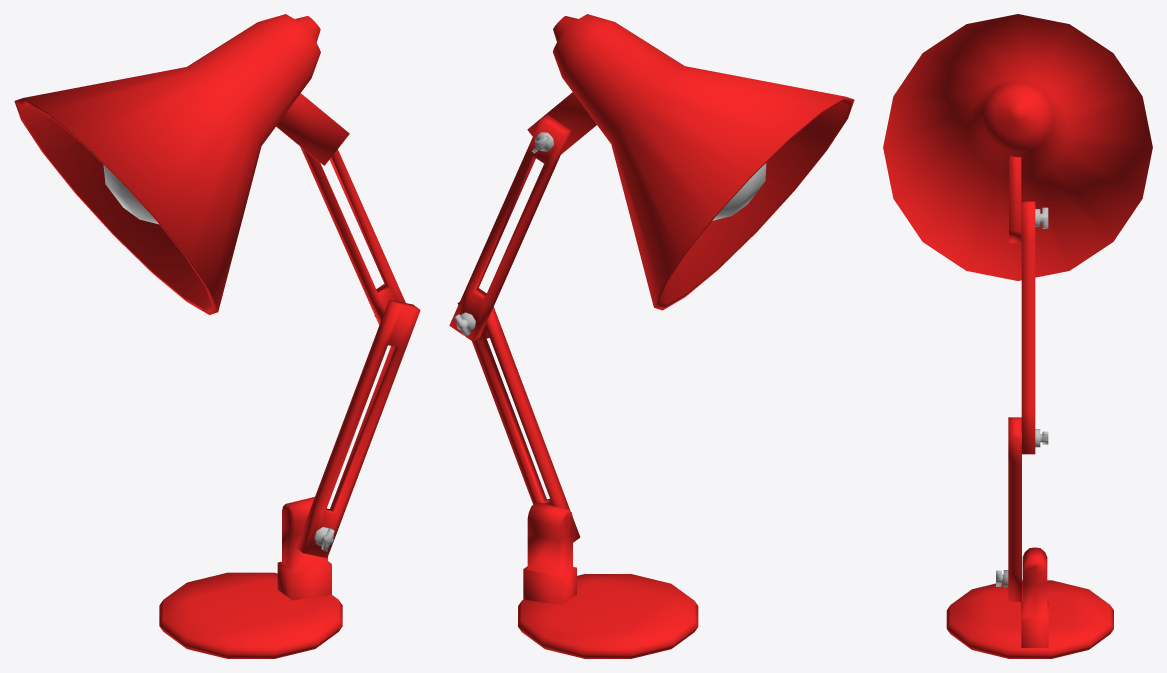
File: TaskA7.fbx
3 views of the same model, side by side, from view 1: azimuth 30°, elevation 25°; view 2: azimuth 150°, elevation 25°; view 3: azimuth 270°, elevation 25° (orthographic). The views are drawn at different scales.
Visible parts, largest first — view 1: Cone, BaseCyl, ArmSegment1, ArmSegment2, BaseConnection, ConeConnector, ConeLightBulb; view 2: Cone, BaseCyl, ArmSegment1, ArmSegment2, BaseConnection, ConeConnector, ConeLightBulb; view 3: Cone, BaseCyl, ArmSegment2, BaseConnection, ArmSegment1, ConeConnector.
Boxes of the visible parts, x1,y1,x2,y2 form: Cone: [14, 14, 320, 314]; BaseCyl: [159, 572, 342, 658]; ArmSegment1: [296, 299, 420, 557]; ArmSegment2: [300, 147, 405, 324]; BaseConnection: [277, 497, 331, 600]; ConeConnector: [276, 93, 349, 165]; ConeLightBulb: [103, 164, 158, 224]; Cone: [553, 14, 854, 310]; BaseCyl: [518, 574, 698, 658]; ArmSegment1: [457, 302, 580, 542]; ArmSegment2: [449, 114, 571, 341]; BaseConnection: [523, 502, 576, 604]; ConeConnector: [527, 92, 596, 154]; ConeLightBulb: [712, 163, 766, 220]; Cone: [883, 14, 1152, 280]; BaseCyl: [946, 580, 1113, 658]; ArmSegment2: [1021, 201, 1035, 454]; BaseConnection: [1021, 547, 1048, 647]; ArmSegment1: [1008, 417, 1021, 601]; ConeConnector: [1009, 155, 1021, 242].
Size of the model in its own units: 127 by 198 by 88.
